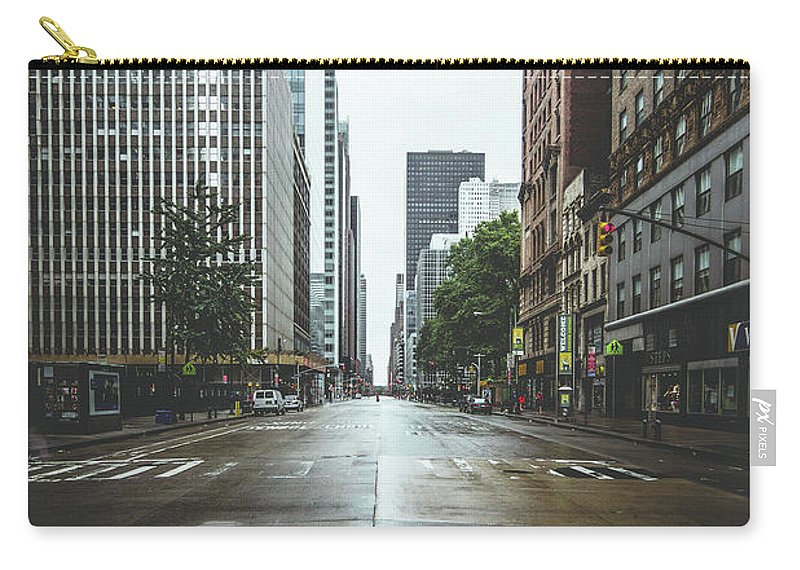car: (248, 387, 283, 417), (463, 393, 491, 414)
strada: (8, 386, 763, 570)
